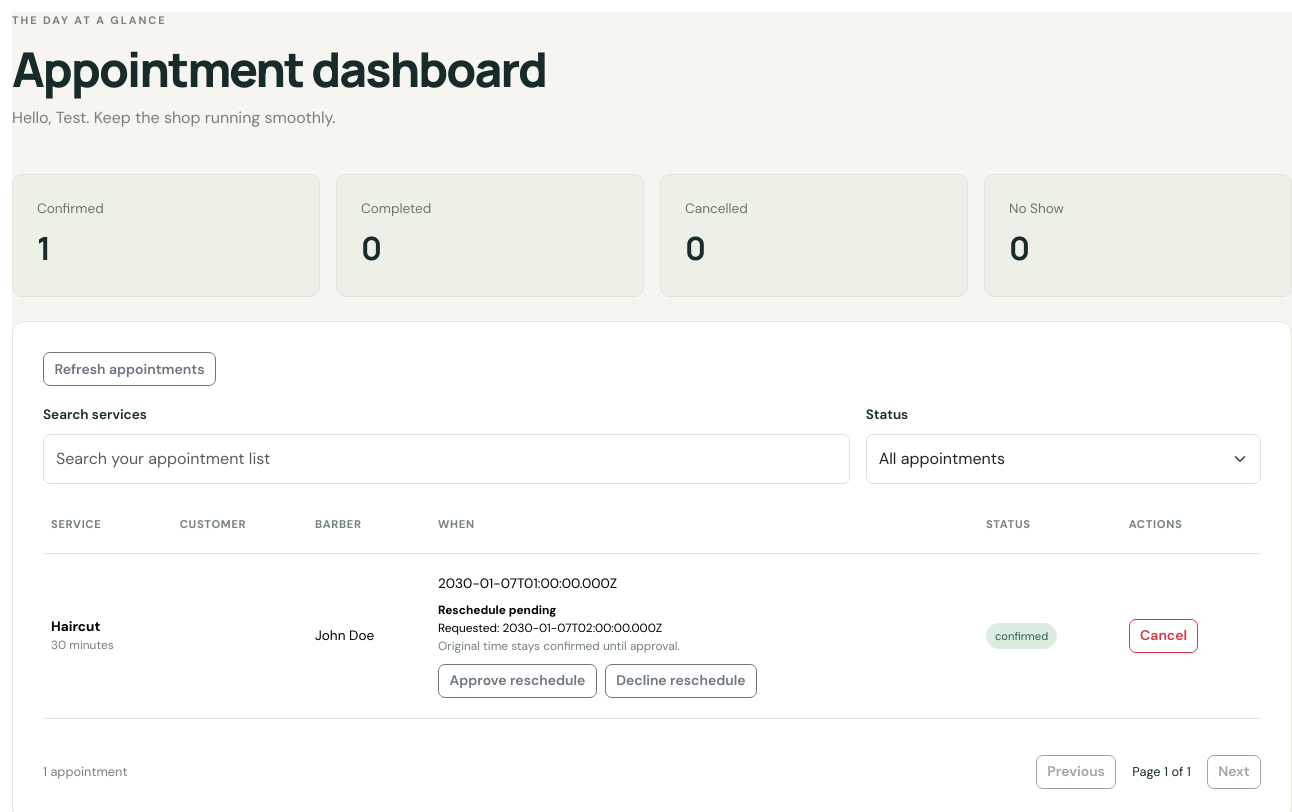
approval conflict shows error and retains original time
Click the button "Approve reschedule" at [518, 681], box [438,664,597,698]
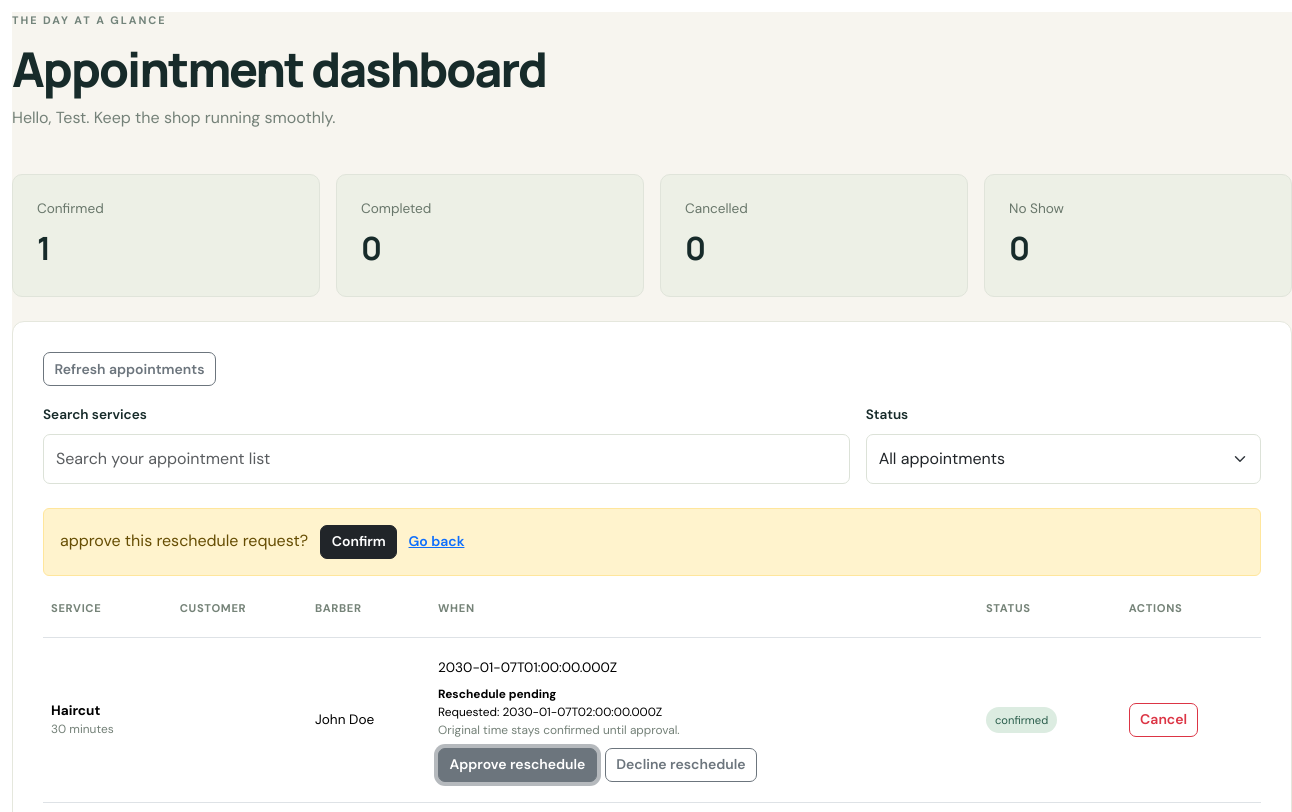
Click the button "Confirm" at [359, 542], box [320,525,397,559]
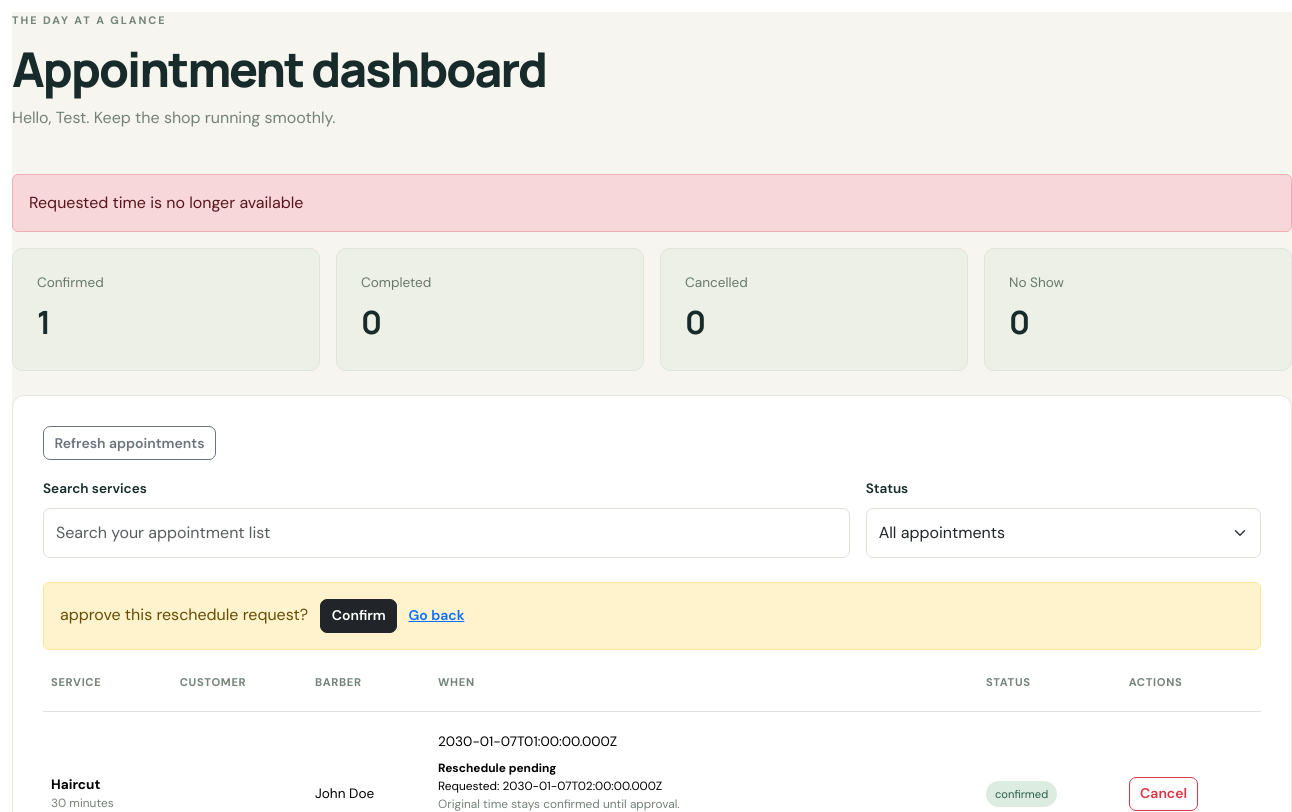
Expected: the text "2030-01-07T01:00:00.000Z" is shown, [438,733,617,750]
Result: the text "Requested time is no longer available" is shown at [12,174,1291,232]
